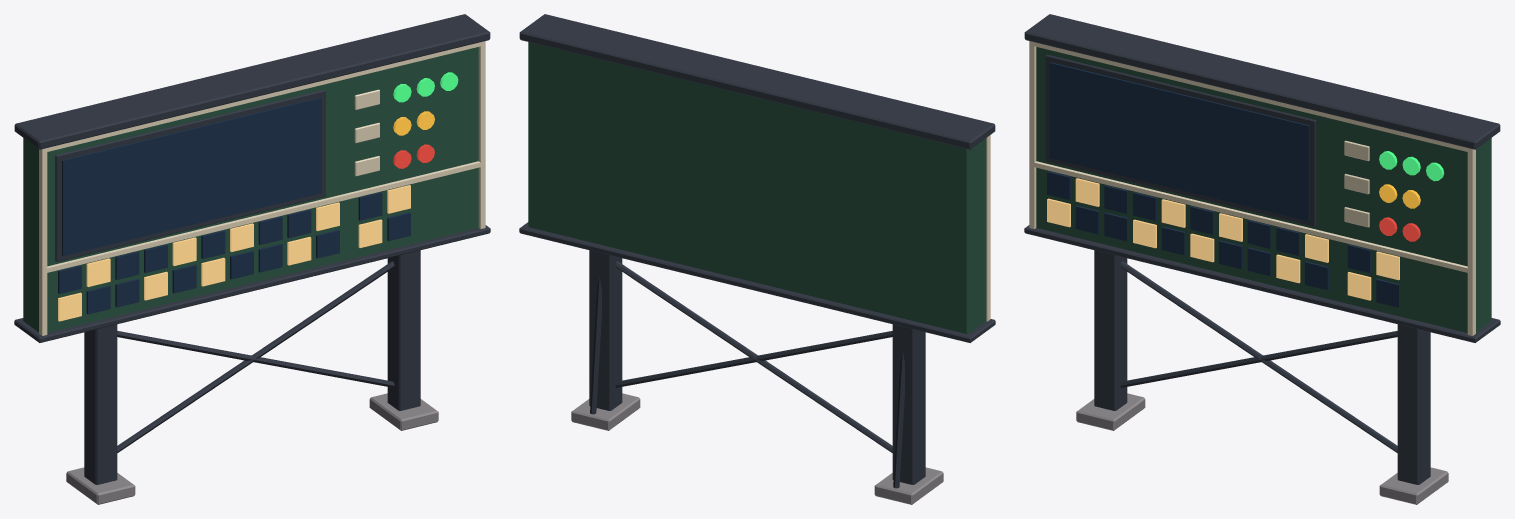
File: scoreboard.glb
The picture shows the model from 3 angles, left to right: view 1: azimuth 30°, elevation 25°; view 2: azimuth 150°, elevation 25°; view 3: azimuth 330°, elevation 25°; orthographic projection.
Visible parts, largest first — view 1: scoreboard; view 2: scoreboard; view 3: scoreboard.
Part boxes in pixels (x1,y1,x2,y2): scoreboard: (14, 14, 490, 504); scoreboard: (519, 14, 995, 504); scoreboard: (1024, 14, 1500, 504).
Size of the model in its own units: 16.4 by 13 by 2.
Materials: 3 (3 with a texture image).
